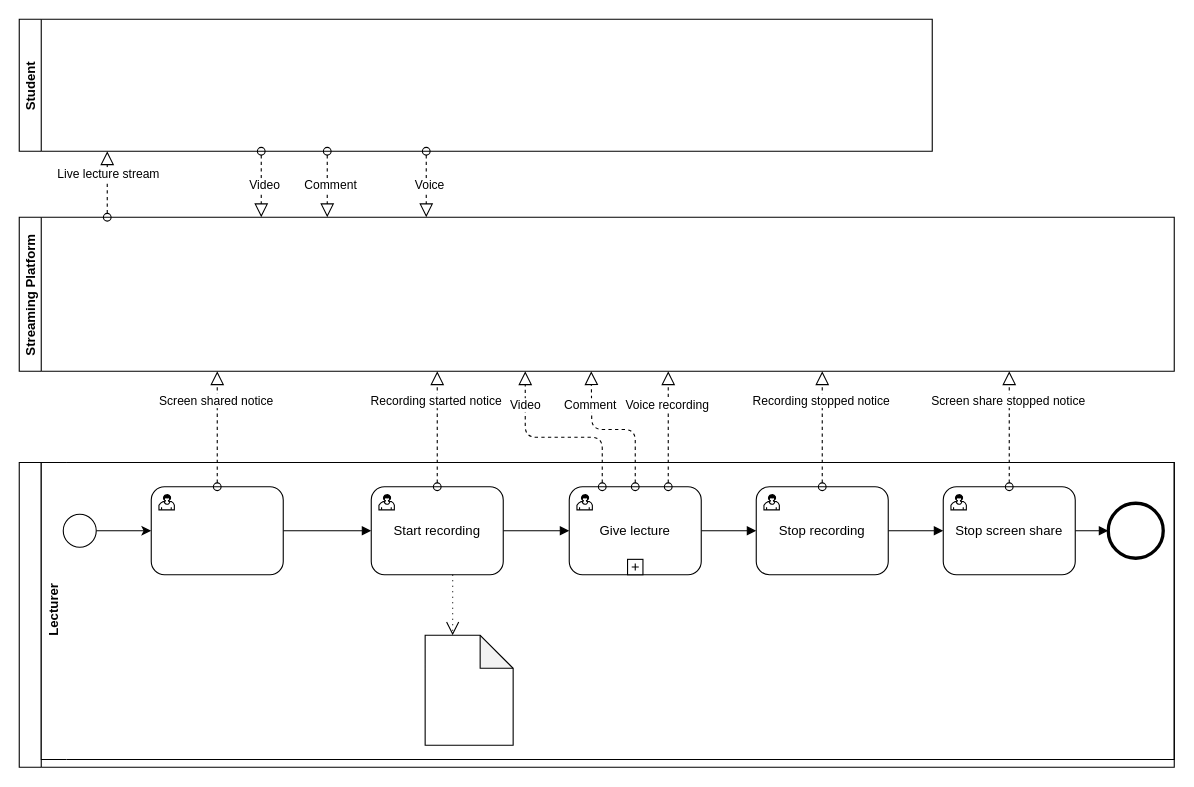
Image size: 1194x787. Some labels were removed from this diagram. The box of each missing label's shape, as (x1, y1, x2, y2) in pixels:
Perform realtime online lecture: (18, 461, 1174, 767)
Screen recording: (424, 634, 513, 745)
Share screen: (150, 486, 283, 575)
